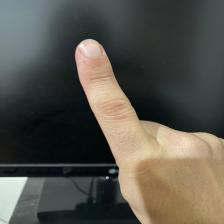one: (72, 36, 222, 222)
